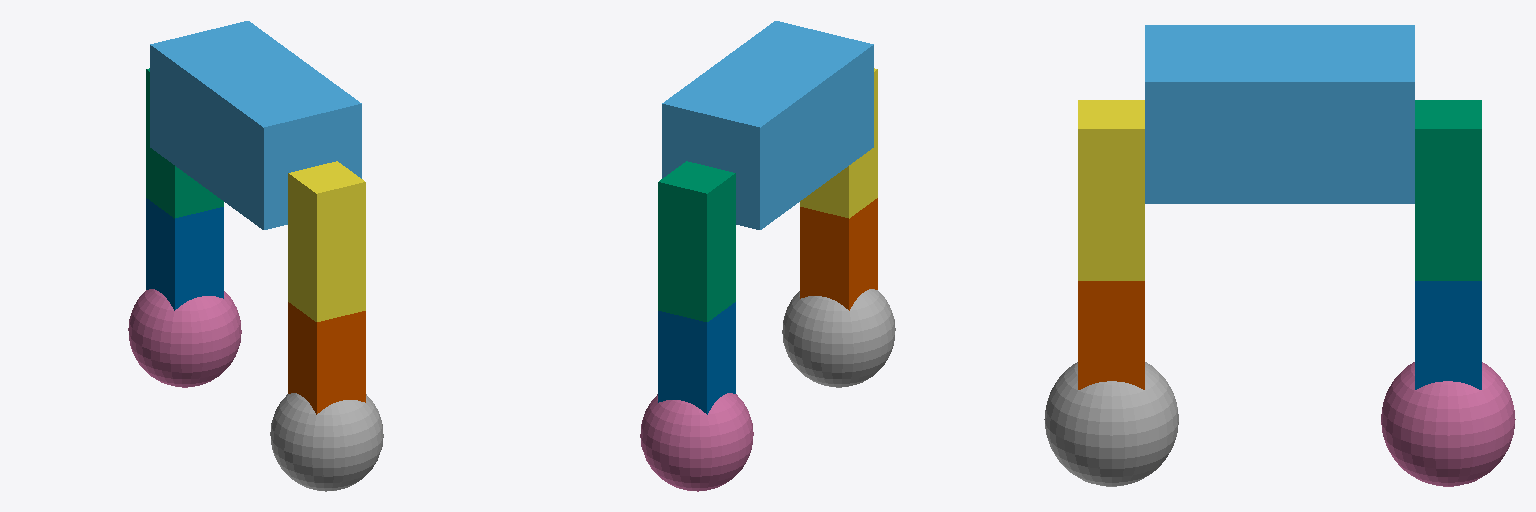
URDF robot description (test_robot):
<?xml version="1.0" encoding="utf-8"?>

<robot name="test_robot">
  <link name="root" />
  <joint name="root_joint" type="fixed">
    <parent link="root" />
    <child link="body" />
  </joint>
  <link name="body">
    <visual>
      <geometry>
        <box size=".8 1.6 .8" />
      </geometry>
    </visual>
  </link>
  <link name="left_thigh">
    <visual>
      <origin xyz="0 0 -.5" rpy="0 0 0" />
      <geometry>
        <box size=".4 .4 1" />
      </geometry>
    </visual>
  </link>
  <link name="right_thigh">
    <visual>
      <origin xyz="0 0 -.5" rpy="0 0 0" />
      <geometry>
        <box size=".4 .4 1" />
      </geometry>
    </visual>
  </link>
  <joint name="left_hip" type="revolute">
    <parent link="body" />
    <child link="left_thigh" />
    <origin xyz="0 1 0" rpy="0 0 0" />
    <axis xyz="0 -1 0" />
    <limit effort="1" lower="-1.57" upper="1.57" velocity="1"/>
  </joint>
  <joint name="right_hip" type="revolute">
    <parent link="body" />
    <child link="right_thigh" />
    <origin xyz="0 -1 0" rpy="0 0 0" />
    <axis xyz="0 -1 0" />
    <limit effort="1" lower="-1.57" upper="1.57" velocity="1"/>
  </joint>
  <link name="left_leg">
    <visual>
      <origin xyz="0 0 -.5" rpy="0 0 0" />
      <geometry>
        <box size=".4 .4 1" />
      </geometry>
    </visual>
  </link>
  <link name="right_leg">
    <visual>
      <origin xyz="0 0 -.5" rpy="0 0 0" />
      <geometry>
        <box size=".4 .4 1" />
      </geometry>
    </visual>
  </link>
  <joint name="left_knee" type="revolute">
    <parent link="left_thigh" />
    <child link="left_leg" />
    <origin xyz="0 0 -1" rpy="0 0 0" />
    <axis xyz="0 -1 0" />
    <limit effort="1" lower="-1.57" upper="1.57" velocity="1"/>
  </joint>
  <joint name="right_knee" type="revolute">
    <parent link="right_thigh" />
    <child link="right_leg" />
    <origin xyz="0 0 -1" rpy="0 0 0" />
    <axis xyz="0 -1 0" />
    <limit effort="1" lower="-1.57" upper="1.57" velocity="1"/>
  </joint>
  <link name="left_foot">
    <visual>
      <geometry>
        <sphere radius=".4" />
      </geometry>
    </visual>
  </link>
  <link name="right_foot">
    <visual>
      <geometry>
        <sphere radius=".4" />
      </geometry>
    </visual>
  </link>
  <joint name="left_ankle" type="fixed">
    <parent link="left_leg" />
    <child link="left_foot" />
    <origin xyz="0 0 -1" rpy="0 0 0" />
  </joint>
  <joint name="right_ankle" type="fixed">
    <parent link="right_leg" />
    <child link="right_foot" />
    <origin xyz="0 0 -1" rpy="0 0 0" />
  </joint>
  <link name="left_contact">
  </link>
  <link name="right_contact">
  </link>
  <joint name="left_contact_joint" type="fixed">
    <parent link="left_foot" />
    <child link="left_contact" />
  </joint>
  <joint name="right_contact_joint" type="fixed">
    <parent link="right_foot" />
    <child link="right_contact" />
  </joint>
</robot>

--- Facts derived from the render (not from the file) ---
3 views of the same robot in one strip: view 1: azimuth 30°, elevation 25°; view 2: azimuth 150°, elevation 25°; view 3: azimuth 270°, elevation 25° (orthographic).
Robot: test_robot — 10 links, 9 joints (4 revolute, 5 fixed); root link root; default pose: all joints at 0.
Visible links, largest first — view 1: body, right_thigh, left_foot, right_foot, right_leg, left_leg, left_thigh; view 2: body, left_thigh, right_foot, left_foot, left_leg, right_leg, right_thigh; view 3: body, left_foot, right_foot, left_thigh, right_thigh, left_leg, right_leg.
Link boxes in pixels (x1=…): body: x1=150, y1=21, x2=361, y2=229; right_thigh: x1=288, y1=161, x2=365, y2=321; left_foot: x1=128, y1=289, x2=241, y2=387; right_foot: x1=270, y1=393, x2=383, y2=491; right_leg: x1=288, y1=302, x2=365, y2=414; left_leg: x1=146, y1=198, x2=223, y2=310; left_thigh: x1=146, y1=68, x2=223, y2=218; body: x1=662, y1=21, x2=873, y2=229; left_thigh: x1=658, y1=161, x2=735, y2=321; right_foot: x1=782, y1=289, x2=895, y2=387; left_foot: x1=640, y1=393, x2=753, y2=491; left_leg: x1=658, y1=302, x2=735, y2=414; right_leg: x1=800, y1=198, x2=877, y2=310; right_thigh: x1=800, y1=68, x2=877, y2=218; body: x1=1145, y1=25, x2=1414, y2=203; left_foot: x1=1381, y1=362, x2=1515, y2=486; right_foot: x1=1044, y1=362, x2=1178, y2=486; left_thigh: x1=1415, y1=100, x2=1481, y2=280; right_thigh: x1=1078, y1=100, x2=1144, y2=280; left_leg: x1=1415, y1=281, x2=1481, y2=389; right_leg: x1=1078, y1=281, x2=1144, y2=389.
Size in the robot's own frame: 0.8 by 2.8 by 2.8 metres.
Geometry: primitives only (box / cylinder / sphere), no mesh files.